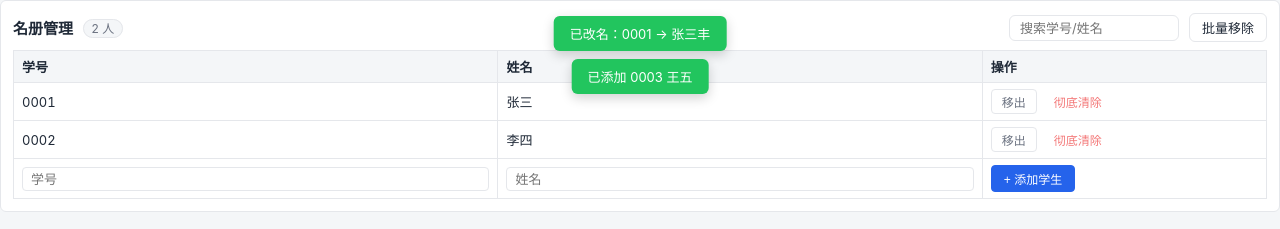
Test: RosterPanel 行内优先交互 › 保存前提：学号姓名任一为空 → toast 提示，不发请求
The width and height of the screenshot is (1280, 229).
Type "王五" into the field with class "add-name" at coordinates (740, 178), box top-left (506, 166), bottom-right (974, 190)
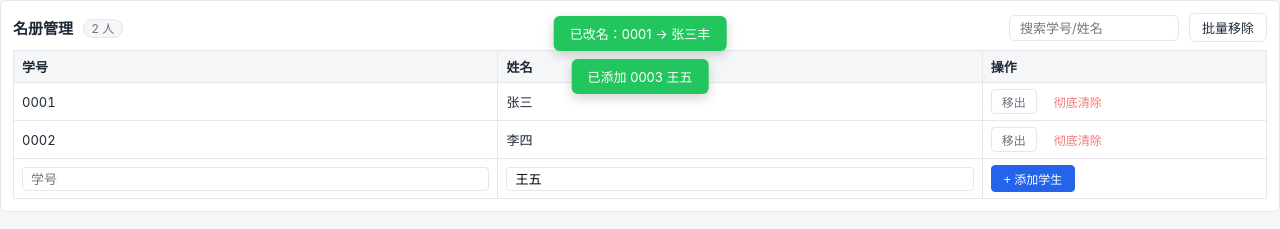
Click the button with class "add-entry" at coordinates (1033, 178), box top-left (991, 165), bottom-right (1075, 192)
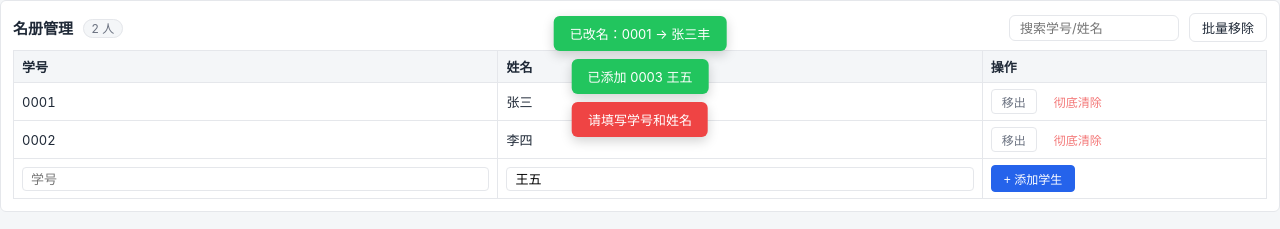
Check: the text "请填写学号和姓名" is shown, box top-left (572, 102), bottom-right (708, 137)
